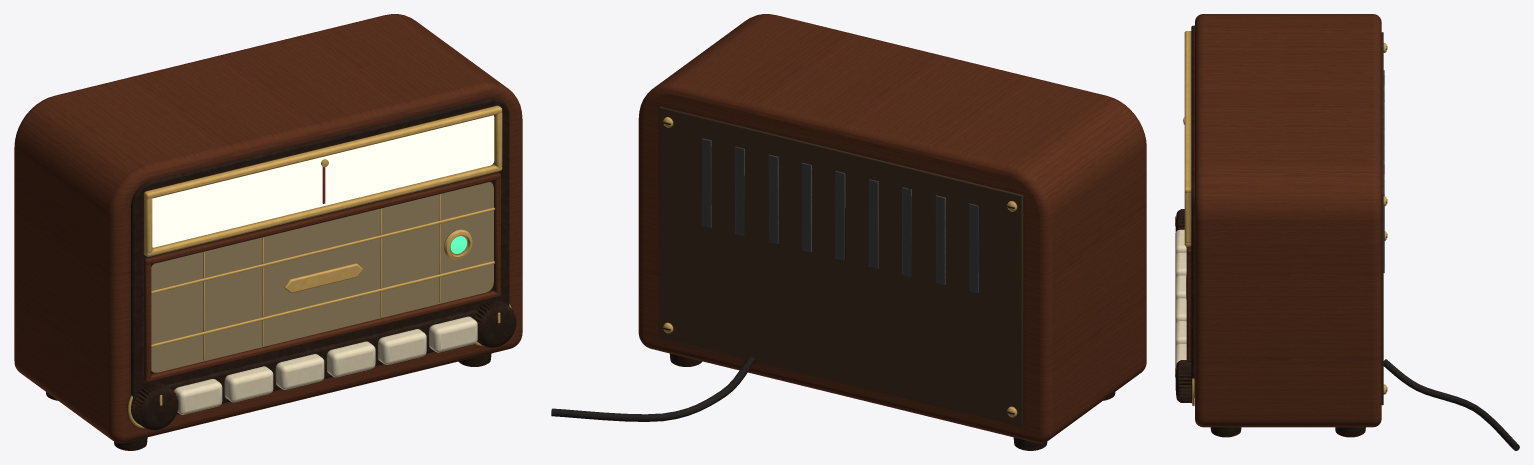
Rendered from radio.glb.
3 renders of one model, left to right at view 1: azimuth 30°, elevation 25°; view 2: azimuth 150°, elevation 25°; view 3: azimuth 270°, elevation 25°, orthographic. The views are drawn at different scales.
Visible parts, largest first — view 1: radio, dial, knob_l, knob_r; view 2: radio; view 3: radio, knob_r.
Boxes of the visible parts, x1=… form: radio: x1=14, y1=14, x2=522, y2=450; dial: x1=152, y1=115, x2=494, y2=247; knob_l: x1=128, y1=382, x2=178, y2=430; knob_r: x1=474, y1=300, x2=516, y2=347; radio: x1=551, y1=14, x2=1146, y2=450; radio: x1=1175, y1=14, x2=1519, y2=450; knob_r: x1=1175, y1=360, x2=1194, y2=406.
Size of the model in its own units: 4.31 by 2.8 by 3.32.
4 materials, 2 textured.
